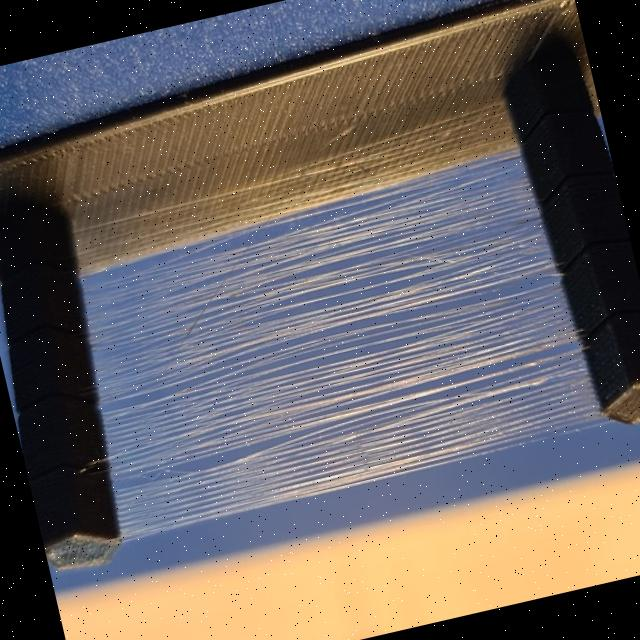stringing: (72, 103, 606, 542)
